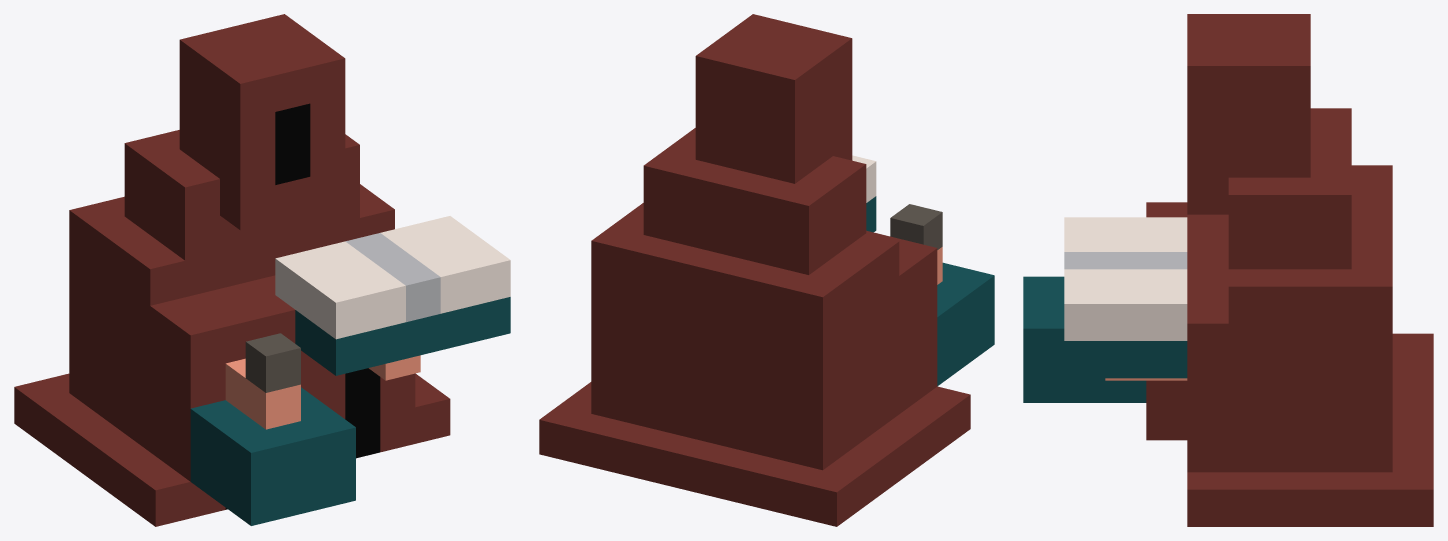
File: alchemist_idle_0.obj
3 renders of one model, left to right at view 1: azimuth 30°, elevation 25°; view 2: azimuth 150°, elevation 25°; view 3: azimuth 270°, elevation 25°, orthographic. The views are drawn at different scales.
Bounding box in the file's own units: 0.9 × 1.1 × 1.
1 material, 1 textured.
